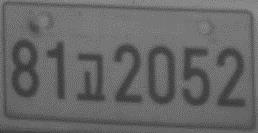0: (147, 45, 176, 103)
1: (45, 40, 67, 100)
2: (215, 47, 247, 108), (113, 44, 144, 103)
5: (182, 46, 209, 104)
8: (10, 39, 39, 97)
고: (75, 52, 106, 100)
